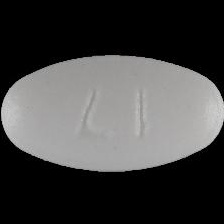50268-639: (0, 0, 224, 224)
